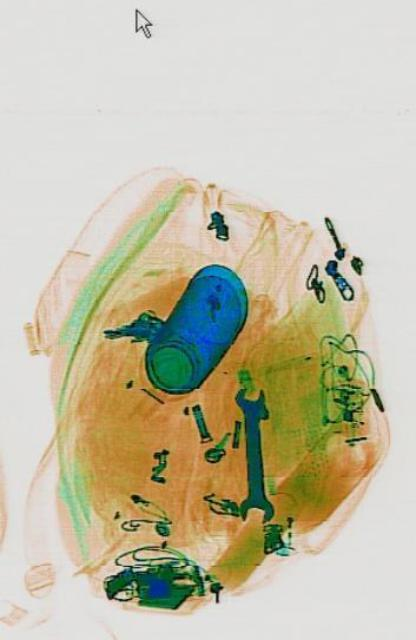Wrench: (231, 384, 271, 524)
